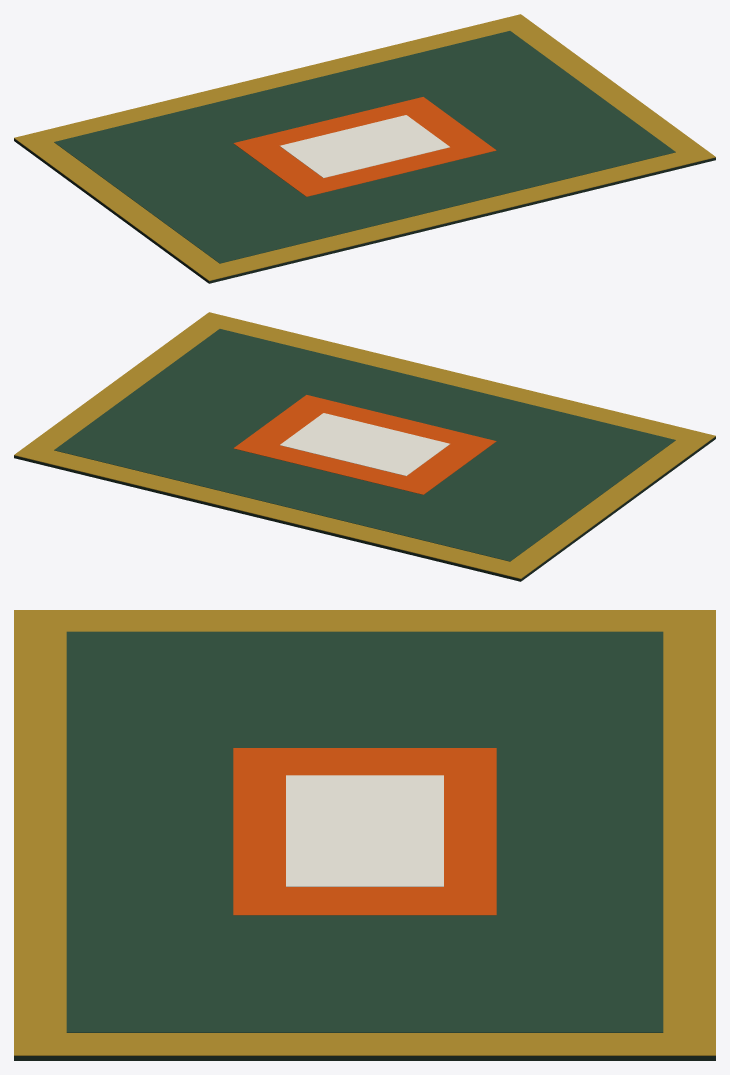
The model's file is floor-rug.glb.
The picture shows the model from 3 angles, top to bottom: view 1: azimuth 30°, elevation 25°; view 2: azimuth 150°, elevation 25°; view 3: azimuth 270°, elevation 25°; orthographic projection. The views are drawn at different scales.
Visible parts, largest first — view 1: field_inner, border_outer, medallion, medallion_core, rug_field; view 2: field_inner, border_outer, medallion, medallion_core, rug_field; view 3: field_inner, border_outer, medallion, medallion_core, rug_field.
Boxes of the visible parts, x1,y1,x2,y2 form: field_inner: [54, 31, 675, 263]; border_outer: [14, 14, 715, 280]; medallion: [233, 97, 496, 196]; medallion_core: [280, 115, 449, 178]; rug_field: [14, 138, 715, 283]; field_inner: [54, 329, 675, 561]; border_outer: [14, 312, 715, 578]; medallion: [233, 395, 496, 494]; medallion_core: [280, 413, 449, 476]; rug_field: [14, 436, 715, 581]; field_inner: [66, 631, 663, 1032]; border_outer: [14, 610, 715, 1055]; medallion: [233, 748, 496, 915]; medallion_core: [286, 775, 443, 886]; rug_field: [14, 1056, 715, 1060].
Bounding box in the file's own units: 2.4 × 0.019 × 1.6.
